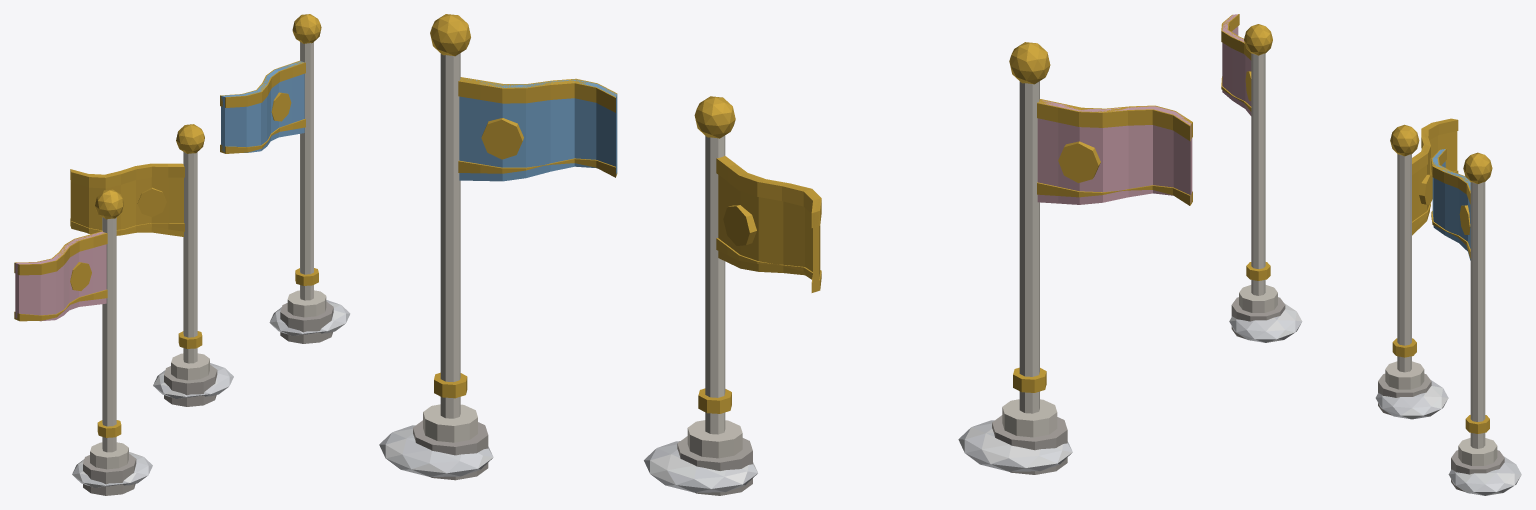
The model's file is Decor_CloudTemple_Banners.fbx.
3 renders of one model, left to right at view 1: azimuth 30°, elevation 25°; view 2: azimuth 150°, elevation 25°; view 3: azimuth 270°, elevation 25°, orthographic. The views are drawn at different scales.
Parts seen in each view (by area): view 1: Banners_Body; view 2: Banners_Body; view 3: Banners_Body.
Part boxes in pixels (x1=…): Banners_Body: x1=14, y1=14, x2=350, y2=495; Banners_Body: x1=379, y1=14, x2=1192, y2=495; Banners_Body: x1=1221, y1=14, x2=1521, y2=495.
Size of the model in its own units: 19.97 by 13.5 by 11.2.
